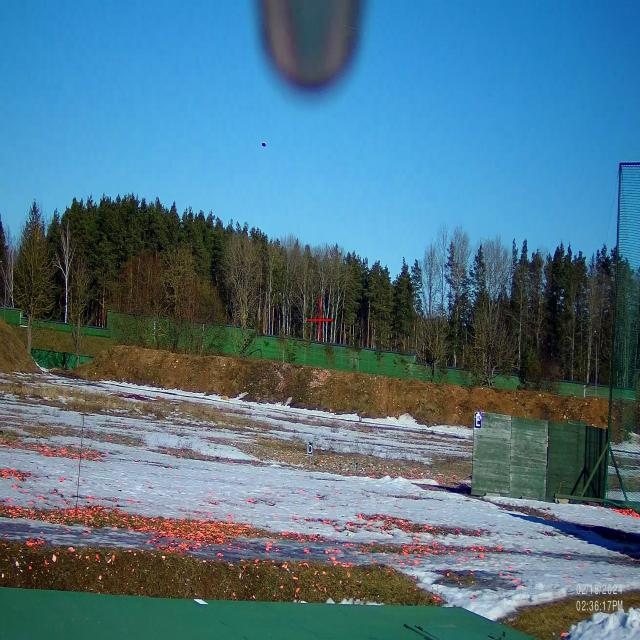entire: (258, 138, 268, 148)
